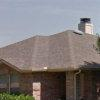Chimney: (70, 10, 93, 40)
